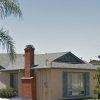Chimney: (17, 39, 39, 90)
